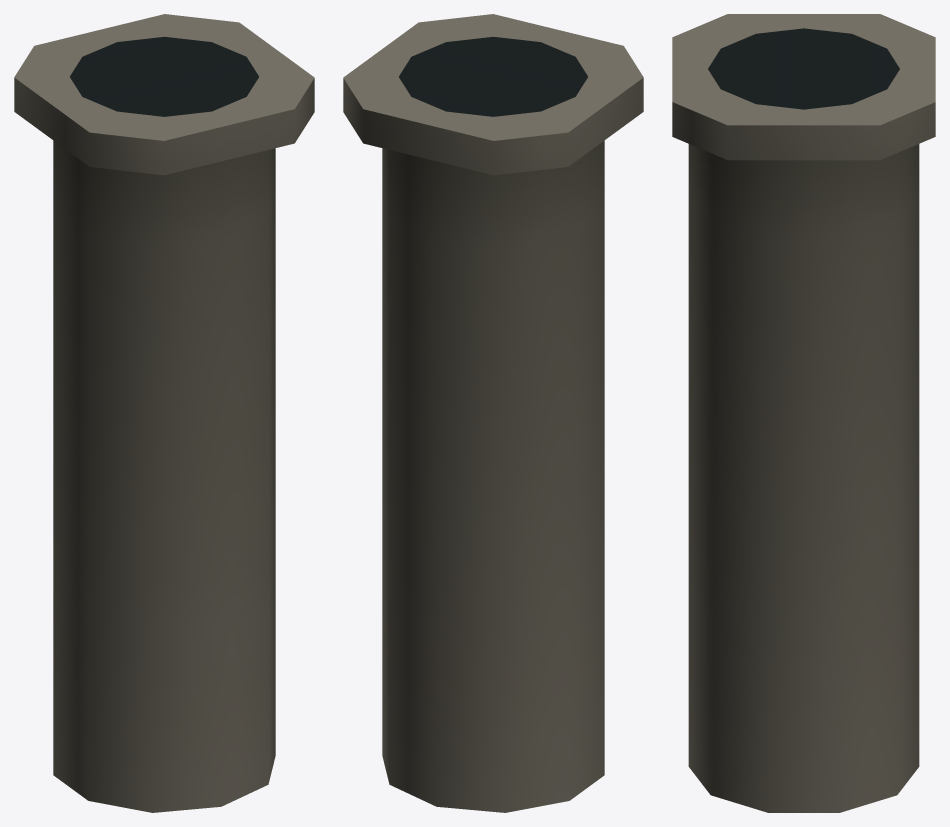
The model's file is Pipe_1A.fbx.
3 views of the same model, side by side, from view 1: azimuth 30°, elevation 25°; view 2: azimuth 150°, elevation 25°; view 3: azimuth 270°, elevation 25° (orthographic).
Visible parts, largest first — view 1: Pipe_1A; view 2: Pipe_1A; view 3: Pipe_1A.
Boxes of the visible parts, left/top/right/bottom form: Pipe_1A: left=14, top=14, right=314, bottom=812; Pipe_1A: left=343, top=14, right=643, bottom=812; Pipe_1A: left=672, top=14, right=935, bottom=812.
Bounding box in the file's own units: 1.37 × 4.01 × 1.37.
